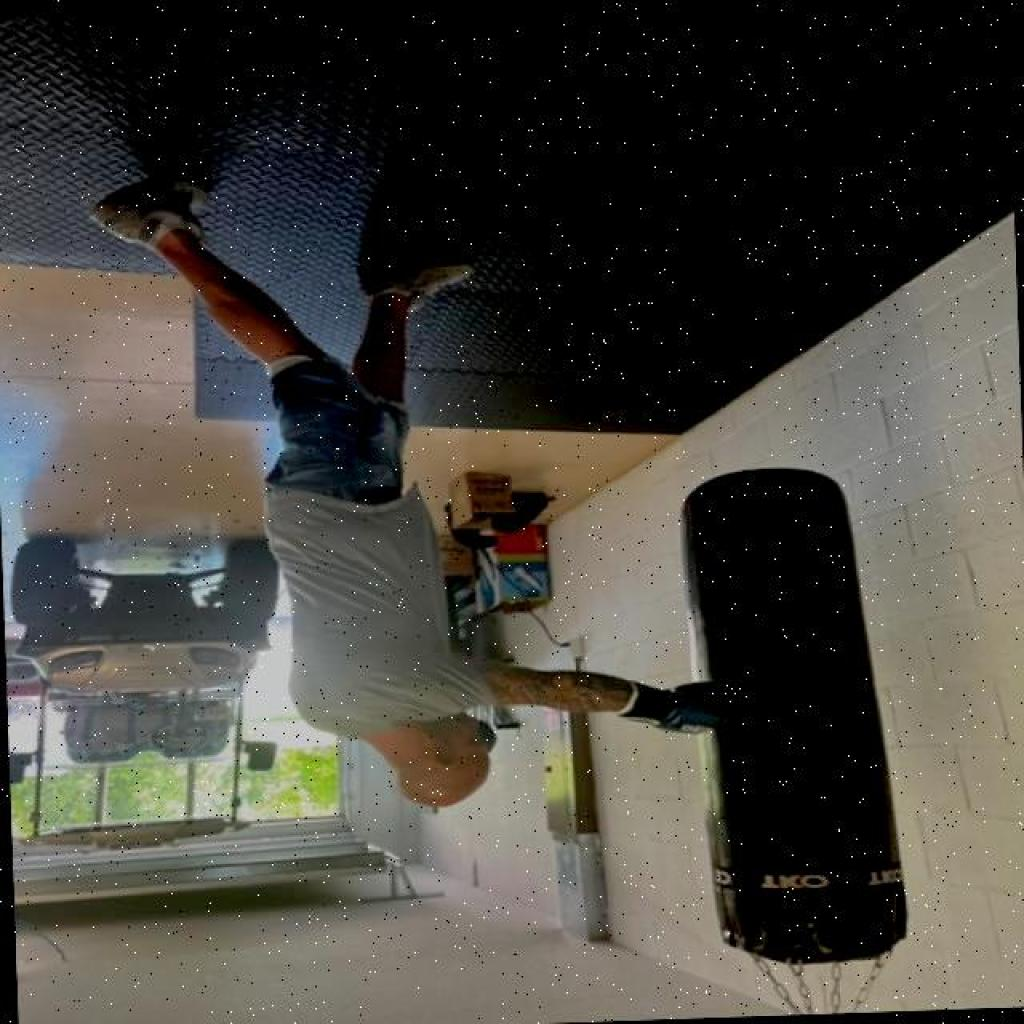cross: (268, 643, 766, 842)
